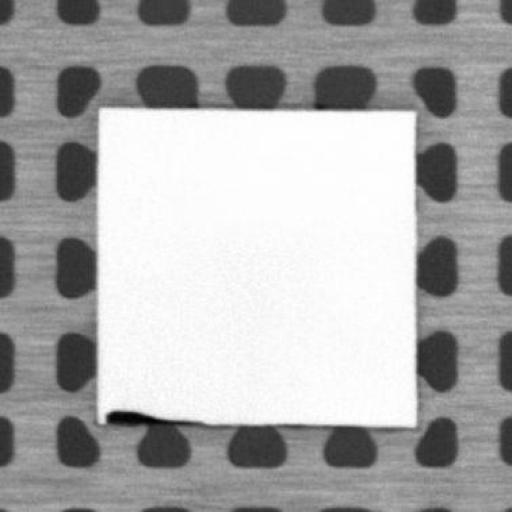DIE_BROKEN: (102, 405, 210, 427)
